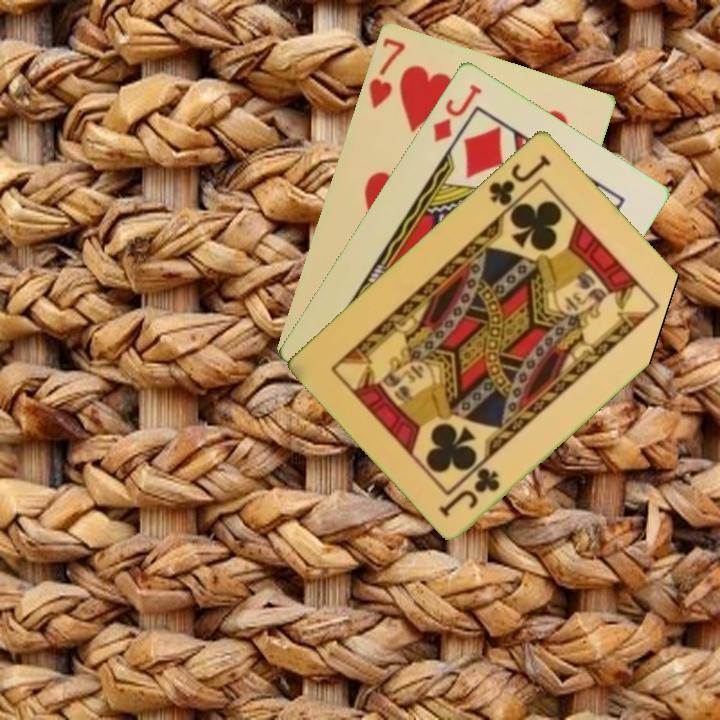7h: (365, 34, 408, 111)
Jc: (485, 150, 554, 209), (436, 463, 503, 520)
Jd: (429, 80, 485, 145)
